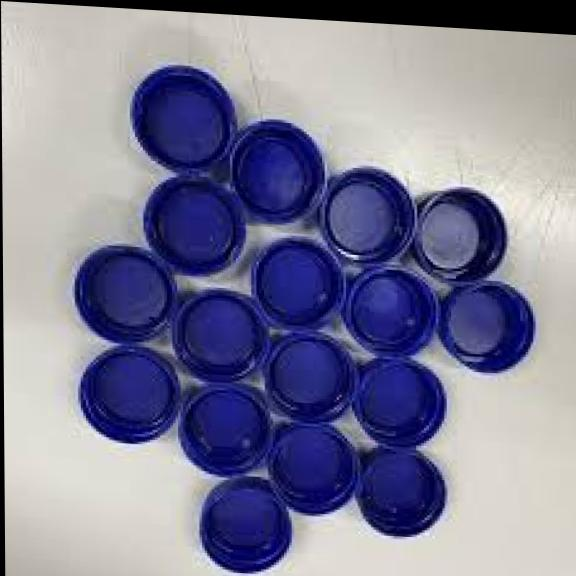Plastik: (129, 63, 239, 174), (140, 169, 245, 276), (404, 187, 506, 295), (77, 342, 179, 443), (74, 244, 176, 343), (232, 115, 326, 222), (321, 163, 416, 267), (438, 277, 537, 375), (198, 473, 293, 575), (340, 262, 440, 357), (267, 419, 359, 515), (351, 355, 443, 449), (180, 380, 269, 477), (174, 289, 266, 382), (357, 445, 446, 536), (253, 239, 343, 328), (266, 329, 353, 421)
